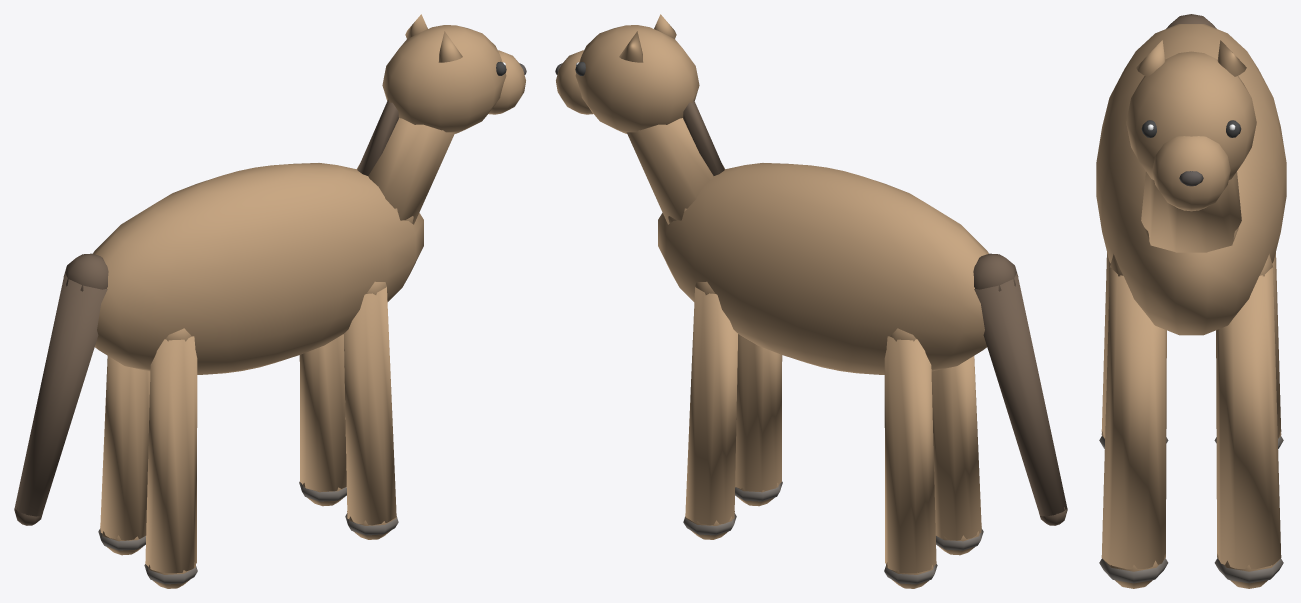
Rendered from miniature-horse.glb.
The picture shows the model from 3 angles, left to right: view 1: azimuth 30°, elevation 25°; view 2: azimuth 150°, elevation 25°; view 3: azimuth 270°, elevation 25°; orthographic projection. The views are drawn at different scales.
Visible parts, largest first — view 1: e, cone, e.025; view 2: e, cone, e.025; view 3: e, cone, e.025.
Part boxes in pixels (x1,y1,x2,y2): e: (93, 99, 455, 588); cone: (382, 14, 526, 133); e.025: (14, 253, 108, 525); e: (626, 99, 988, 588); cone: (555, 14, 699, 133); e.025: (973, 253, 1067, 525); e: (1096, 24, 1286, 588); cone: (1126, 40, 1256, 211); e.025: (1166, 14, 1216, 28).
Bounding box in the file's own units: 1.53 × 1.37 × 0.3959.
